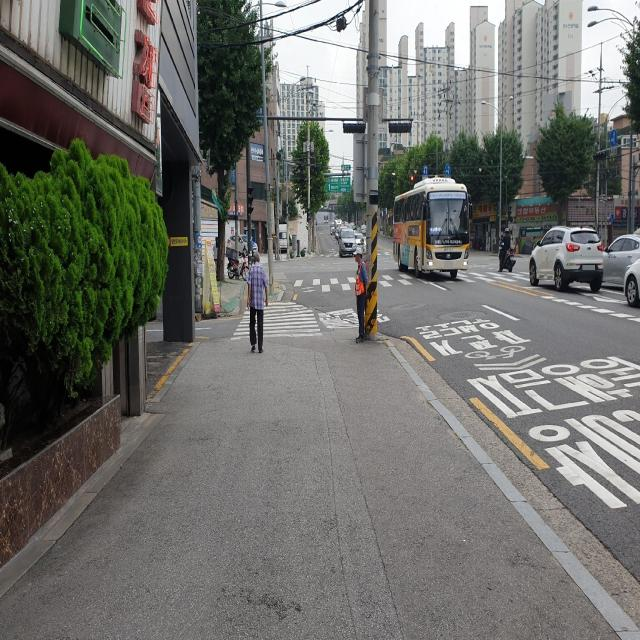횡단보도: (291, 270, 529, 293), (230, 302, 323, 342)
